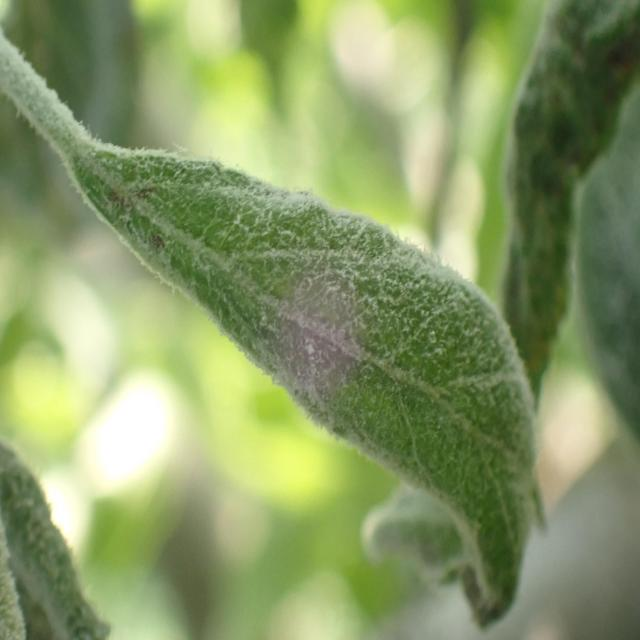Powdery_mildew: (21, 85, 535, 631), (498, 0, 638, 471), (0, 432, 120, 640)
